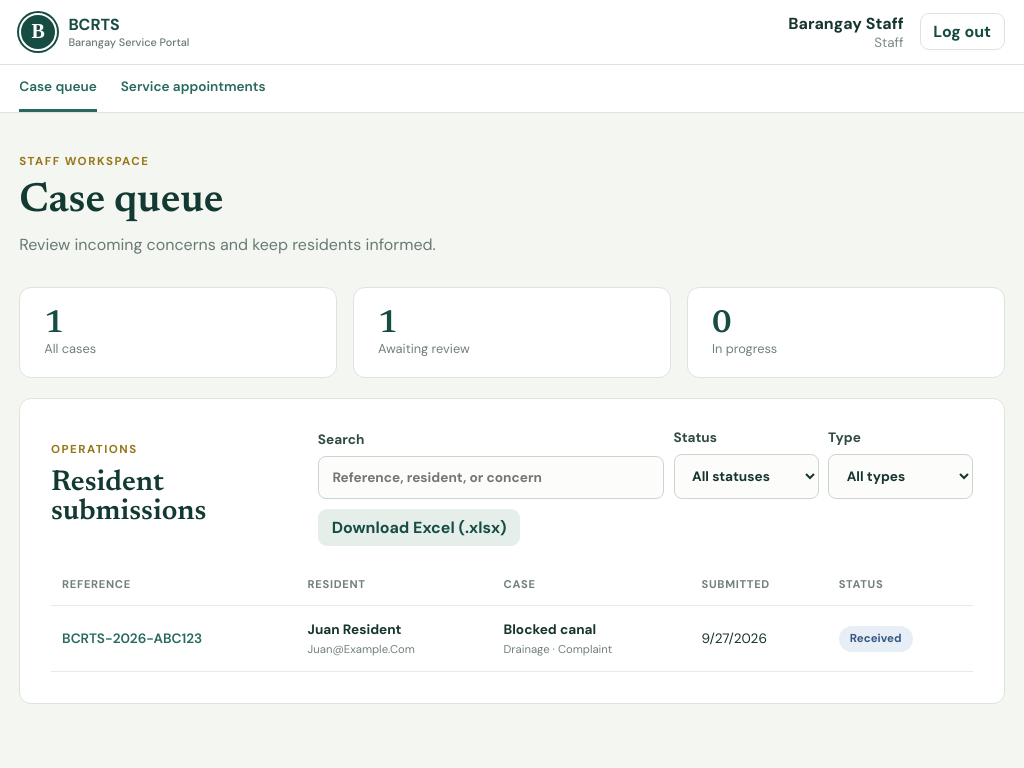
Test case: BCRTS frontend › searches the staff queue and disables export when there are no matches
The image size is (1024, 768).
expect the text "Blocked canal" is shown: met, box [504,621,596,638]
Type "drainage" into the field named "Search cases" at (491, 477), box [318,456,664,499]
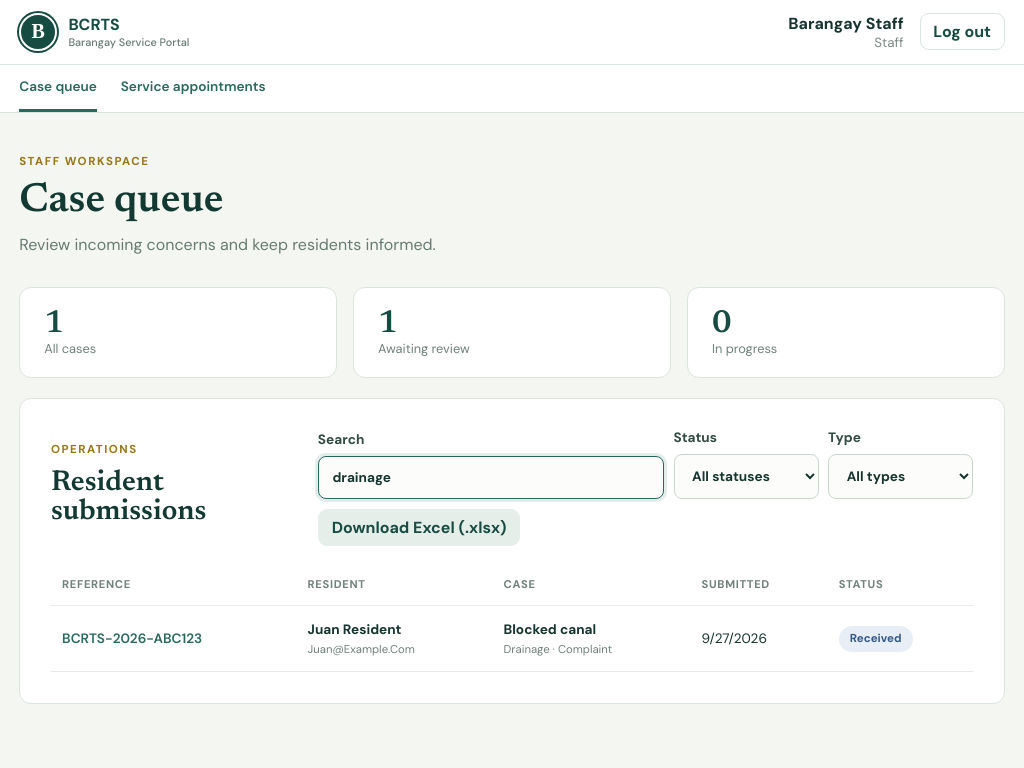
expect the text "Blocked canal" is shown: met, box [504,621,596,638]
expect the button "Download Excel (.xlsx)" is enabled: met, box [318,509,520,546]
Replace the text in the field named "Search cases" with "no matching case" at (491, 477), box [318,456,664,499]
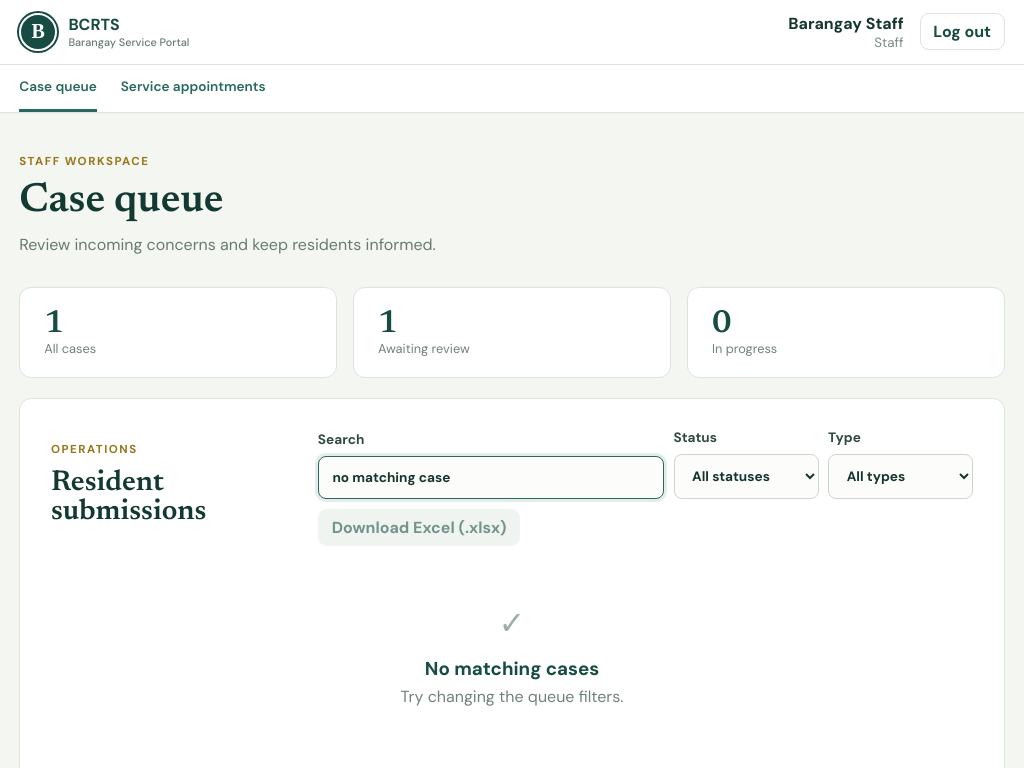
expect the heading "No matching cases" is shown: met, box [425,656,599,681]
expect the button "Download Excel (.xlsx)" is disabled: met, box [318,509,520,546]
